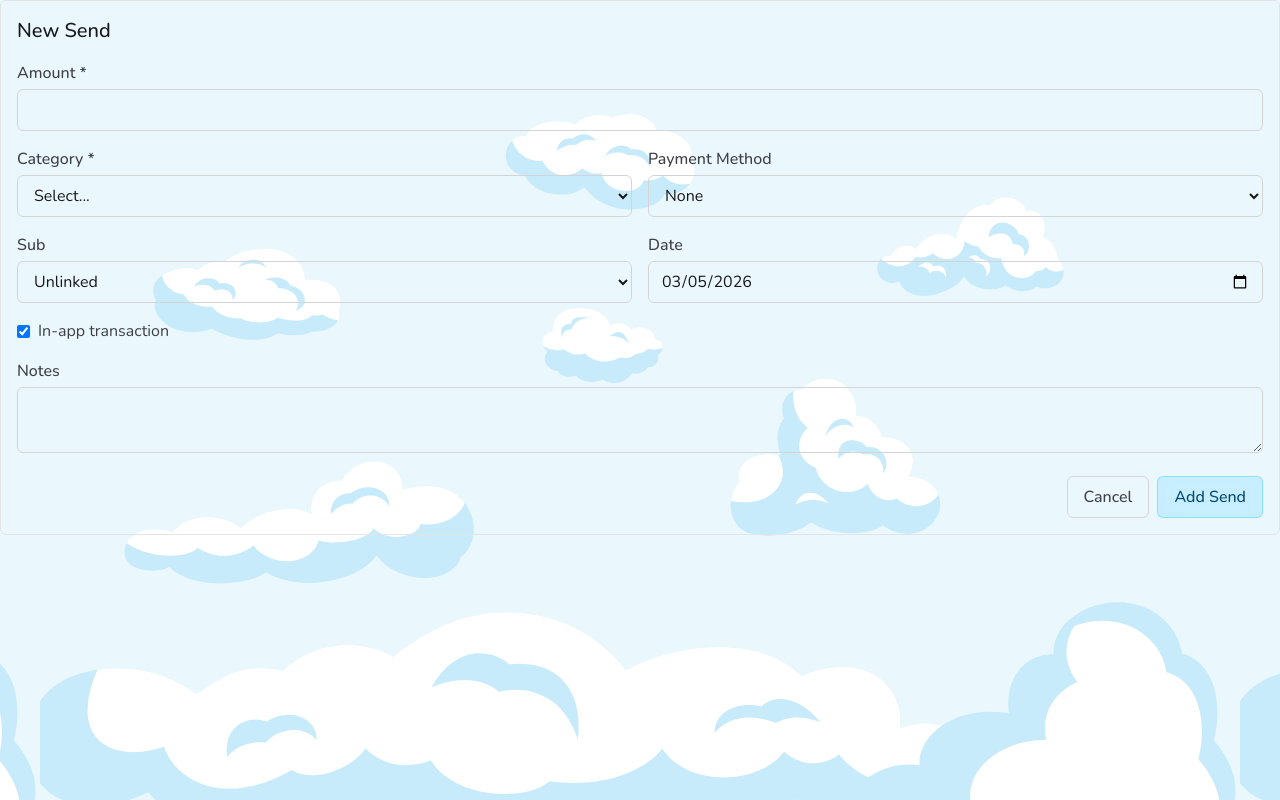
Test: FinancialEntryForm › shows error when API returns error
Type "50" into the number field labelled "Amount *".
click(640, 110); type("50")  # box [17,89,1263,131]
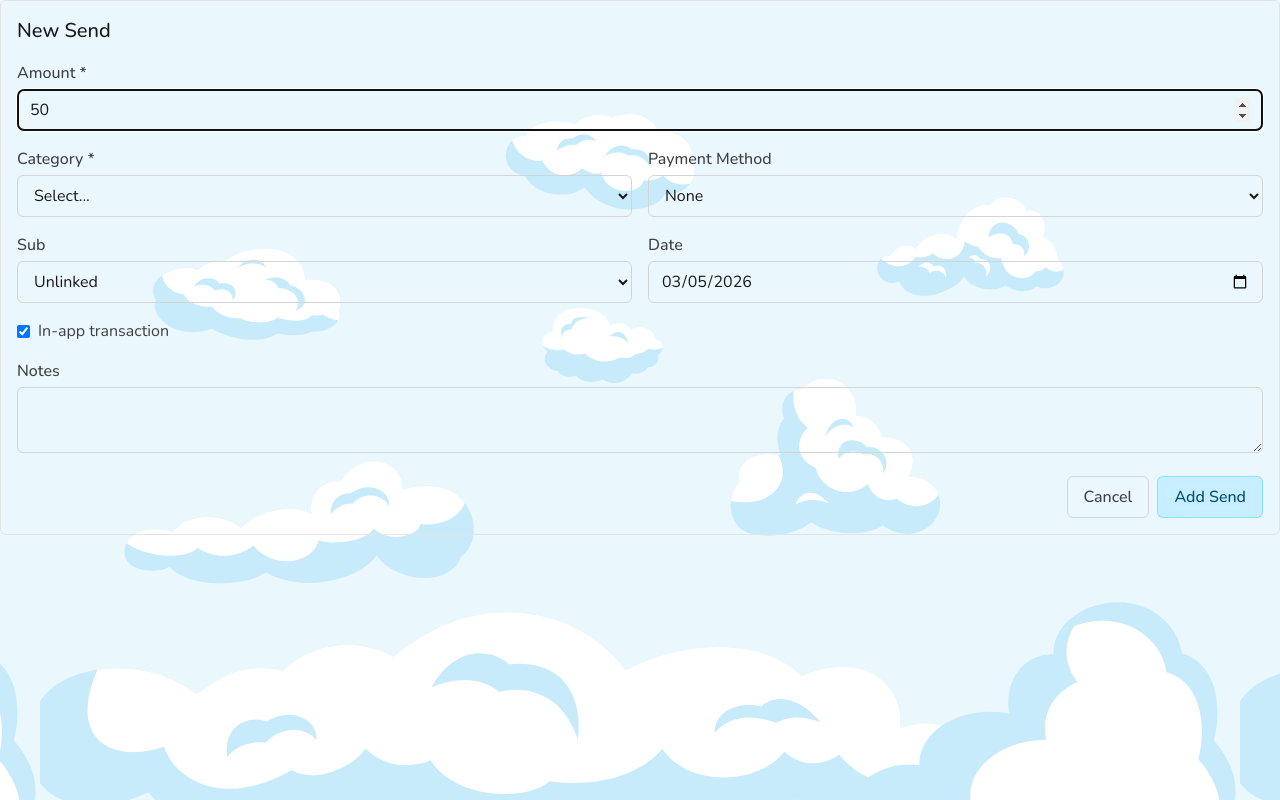
Select "Tip" in the dropdown labelled "Category *" at (324,196), box [17,175,632,217]
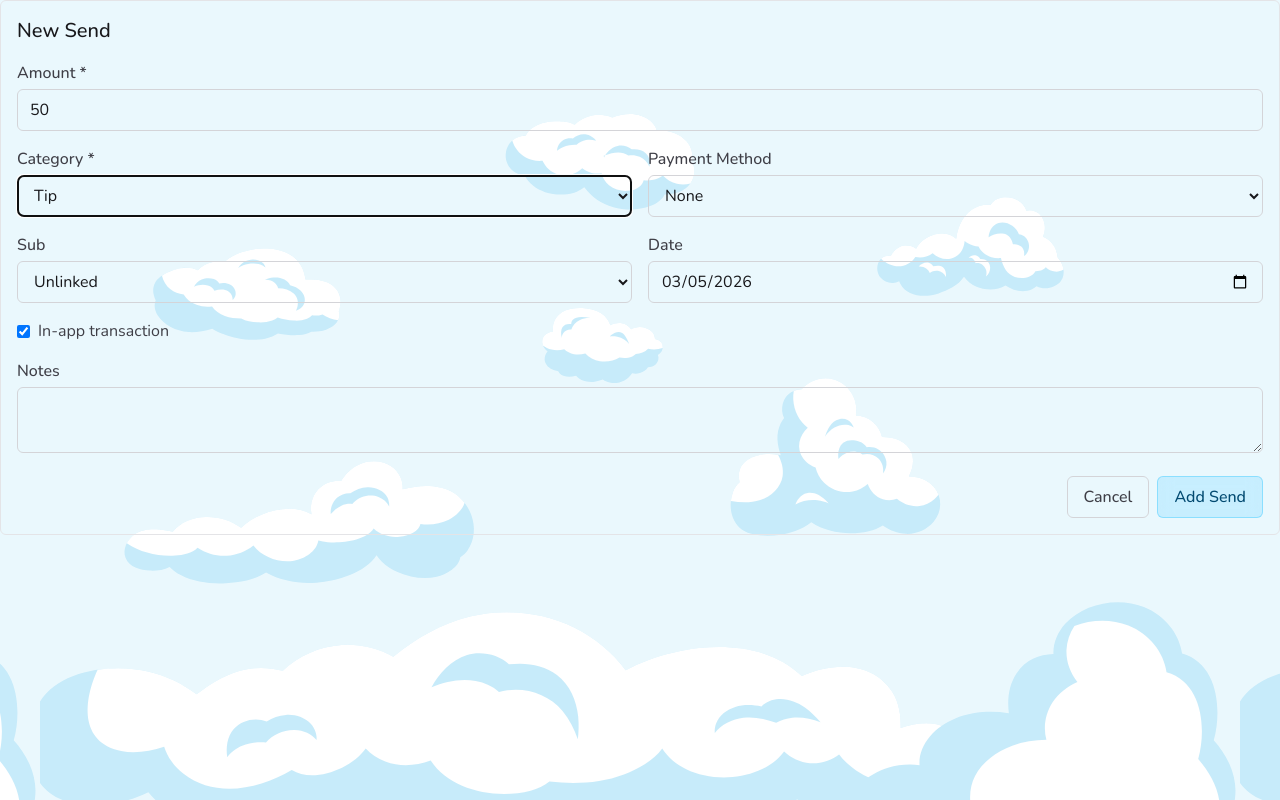
Click the button "Add Send".
click(1210, 497)  # box [1157,476,1263,518]
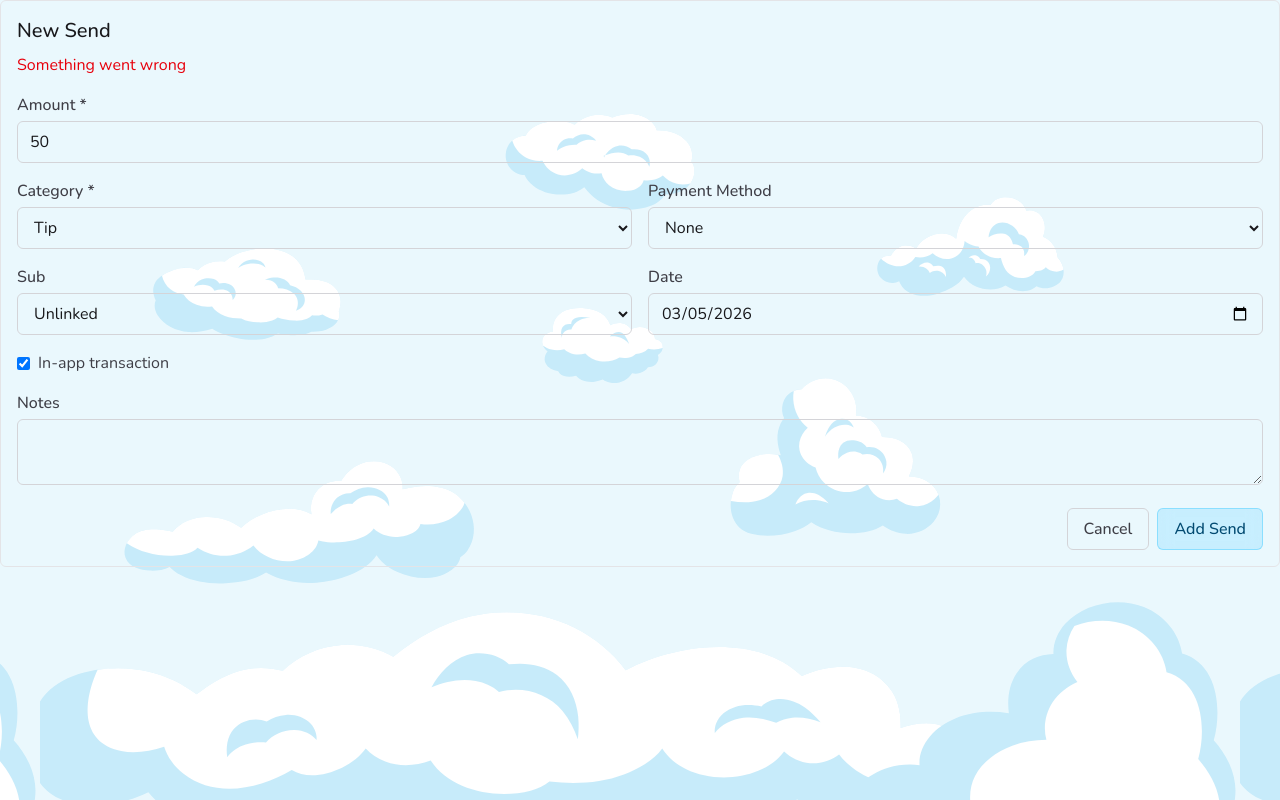
expect the text "Something went wrong" is shown: met, box [17,54,186,76]
